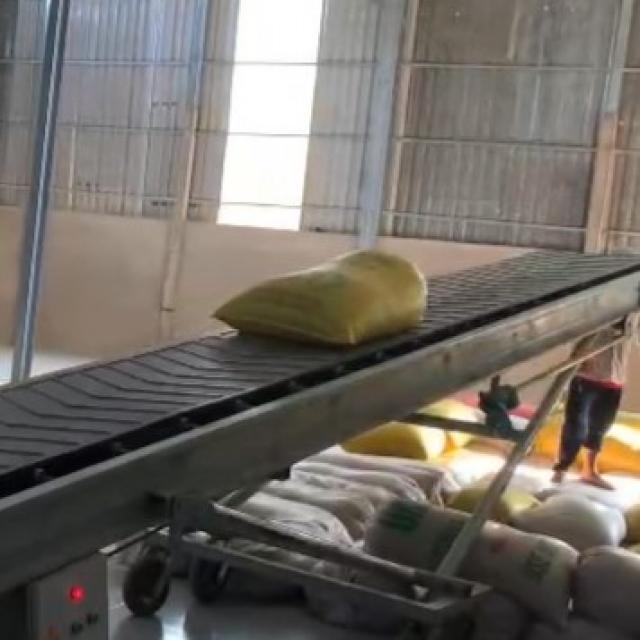gunny_bag: (214, 250, 428, 346)
